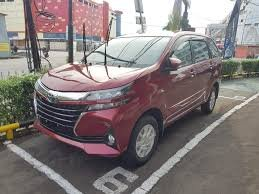mobil: (30, 32, 223, 165)
